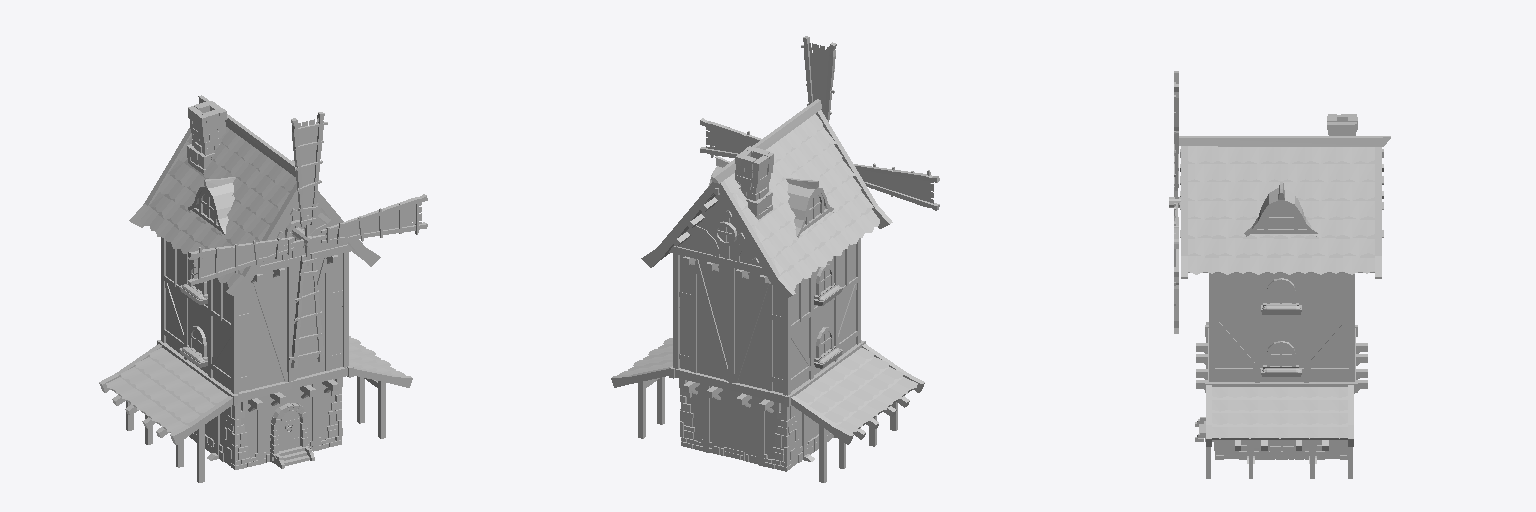
The model's file is Mill.obj.
3 renders of one model, left to right at view 1: azimuth 30°, elevation 25°; view 2: azimuth 150°, elevation 25°; view 3: azimuth 270°, elevation 25°, orthographic.
Visible parts, largest first — view 1: Mill_Cube.128, Mill_Blades_Cube.007; view 2: Mill_Cube.128, Mill_Blades_Cube.007; view 3: Mill_Cube.128, Mill_Blades_Cube.007.
Boxes of the visible parts, x1=… form: Mill_Cube.128: x1=99, y1=95, x2=412, y2=482; Mill_Blades_Cube.007: x1=188, y1=112, x2=427, y2=368; Mill_Cube.128: x1=611, y1=99, x2=924, y2=482; Mill_Blades_Cube.007: x1=700, y1=36, x2=939, y2=210; Mill_Cube.128: x1=1179, y1=114, x2=1390, y2=478; Mill_Blades_Cube.007: x1=1169, y1=71, x2=1180, y2=333.
Size of the model in its own units: 3.4 by 4.8 by 2.73.